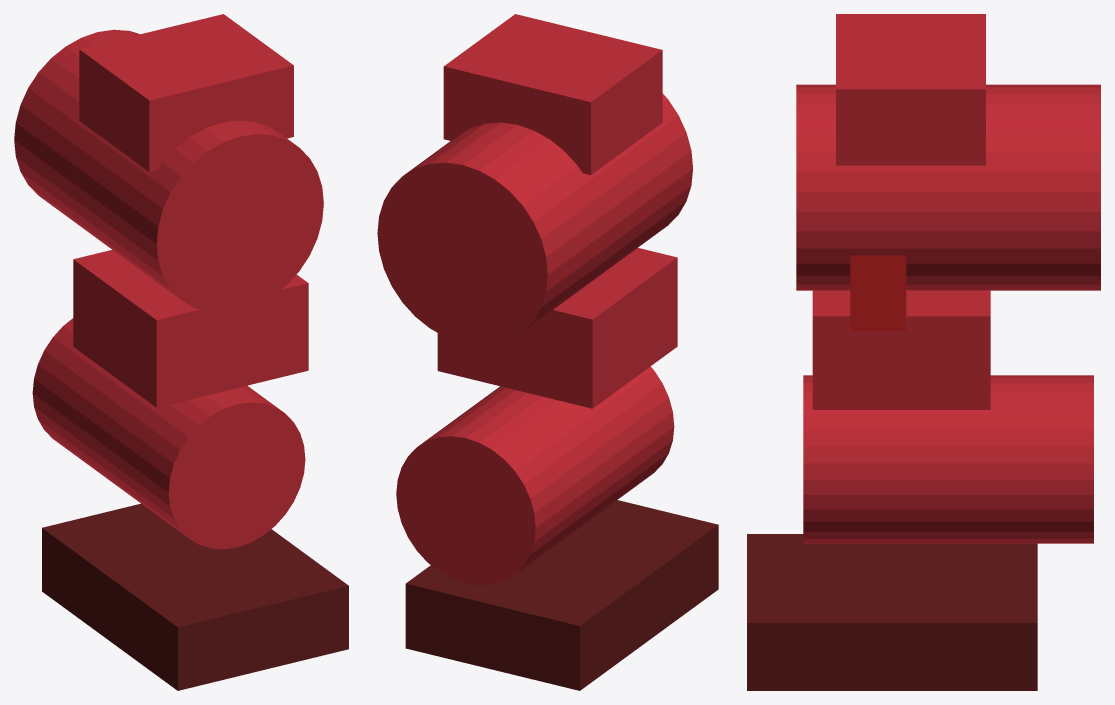
Rendered from leg_left_002_valkyrion.obj.
The picture shows the model from 3 angles, left to right: view 1: azimuth 30°, elevation 25°; view 2: azimuth 150°, elevation 25°; view 3: azimuth 270°, elevation 25°; orthographic projection. The views are drawn at different scales.
Size of the model in its own units: 0.45 by 1.4 by 0.755.
